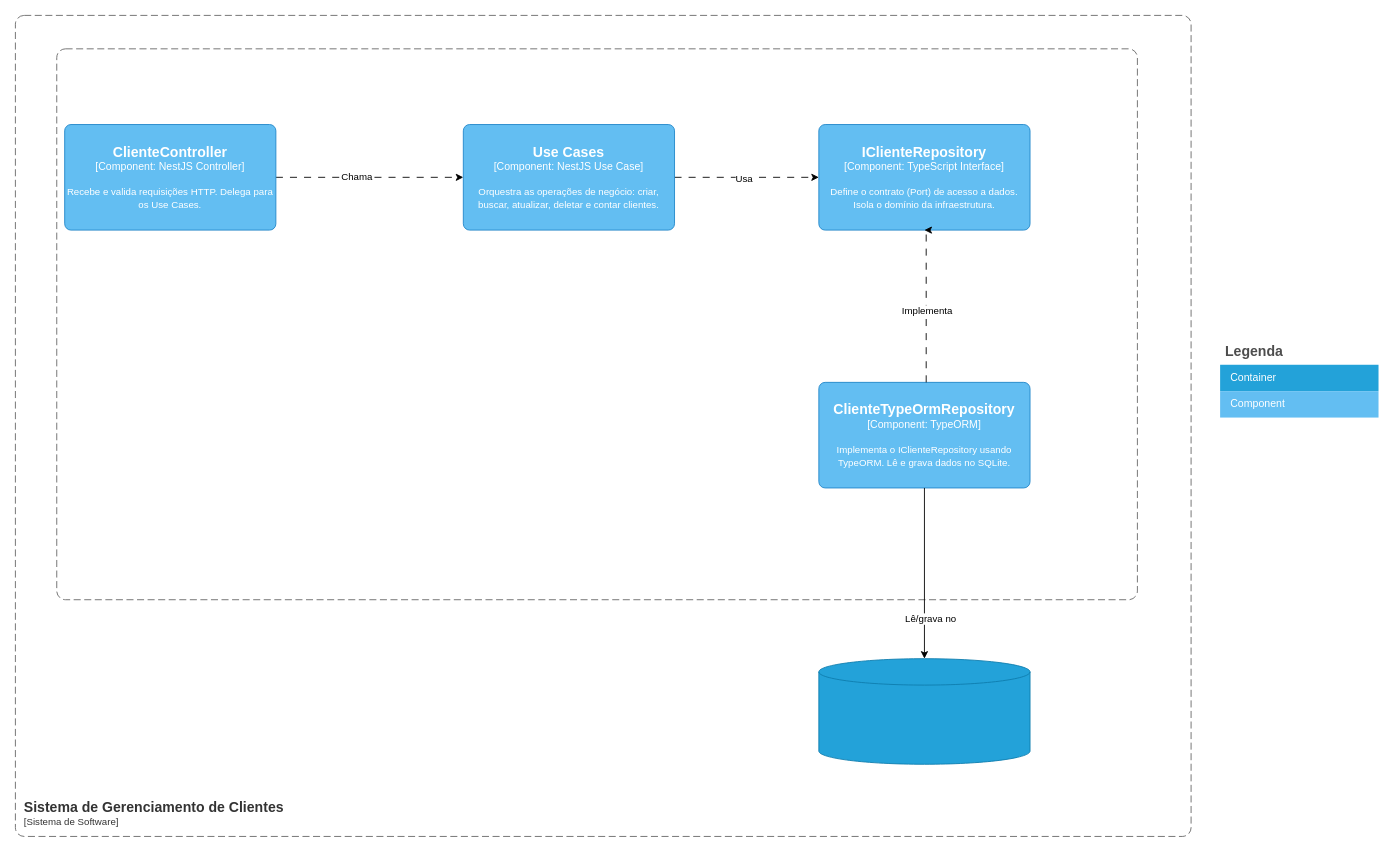
The diagram is 1394 pixels wide and 852 high, and some of its shapes have lost their labels. The shapes that lost their labels are listed below. From the top down, each one's box as (x1, y1, x2, y2) in pixels, then its label:
(56, 48, 1137, 600): Backend [Container]
(818, 658, 1030, 764): Banco de Dados [Container: Banco de Dados SQLite] Informações dos Clientes
